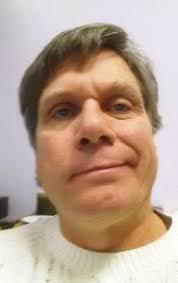strokeEyeWeak: (46, 85, 144, 129)
strokeMouthMid: (68, 157, 137, 192)
